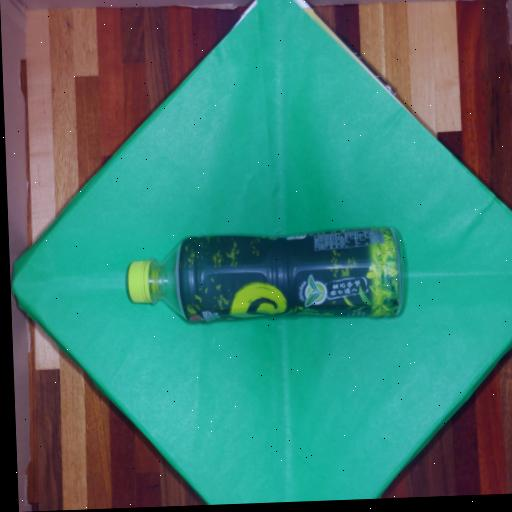bottle: (105, 206, 419, 346)
